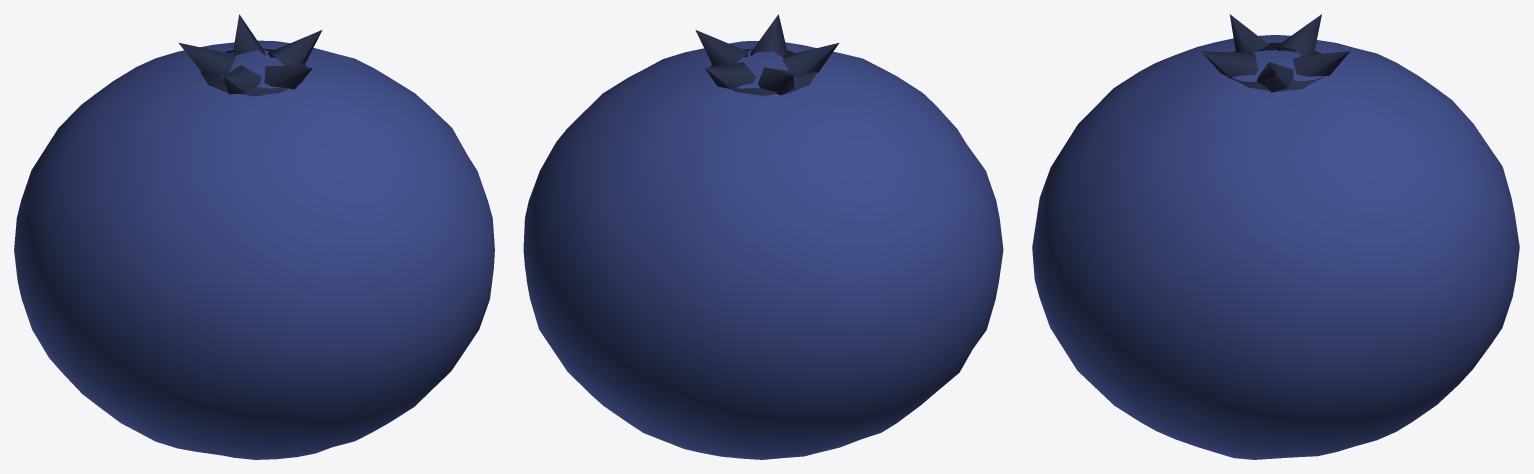
File: items-blueberry.glb
The picture shows the model from 3 angles, left to right: view 1: azimuth 30°, elevation 25°; view 2: azimuth 150°, elevation 25°; view 3: azimuth 270°, elevation 25°; orthographic projection.
Visible parts, largest first — view 1: Blueberry__Berry, Blueberry__Crown; view 2: Blueberry__Berry, Blueberry__Crown; view 3: Blueberry__Berry, Blueberry__Crown.
Part boxes in pixels (x1=…): Blueberry__Berry: x1=14, y1=40, x2=494, y2=459; Blueberry__Crown: x1=178, y1=14, x2=322, y2=96; Blueberry__Berry: x1=523, y1=41, x2=1003, y2=459; Blueberry__Crown: x1=695, y1=14, x2=839, y2=95; Blueberry__Berry: x1=1032, y1=35, x2=1519, y2=459; Blueberry__Crown: x1=1201, y1=14, x2=1350, y2=92.
Size of the model in its own units: 3.11 by 2.75 by 3.1.
